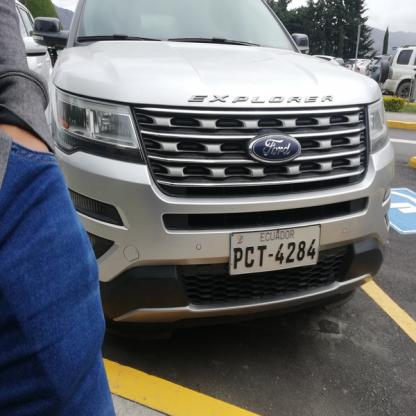Placa: (227, 227, 324, 277)
